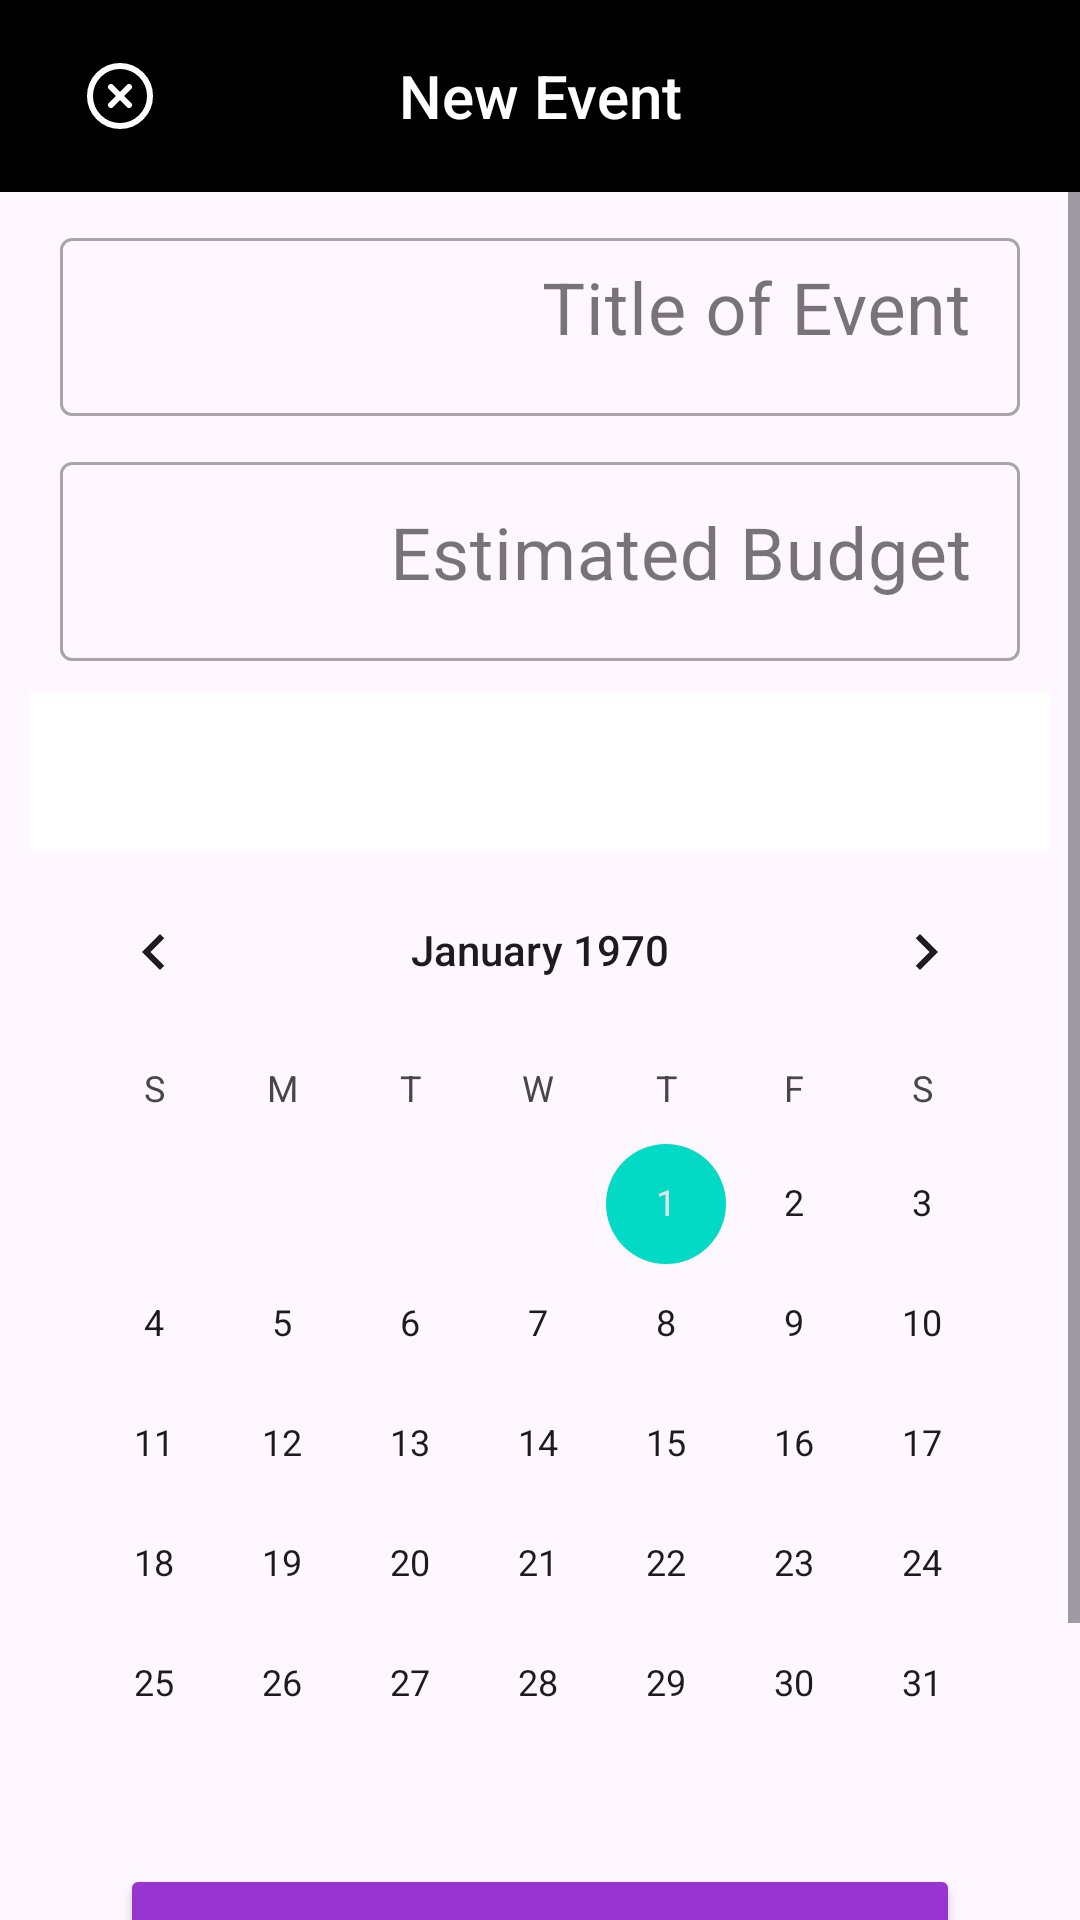

Icons on this 1080w x 1920h Android screen, each with its box as (x1, y1, x2, y2):
Exit: (87, 63, 153, 129)
